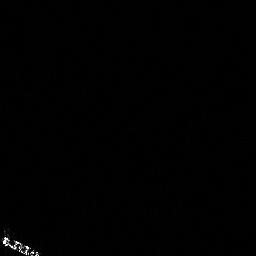ship: (1, 230, 42, 256)
